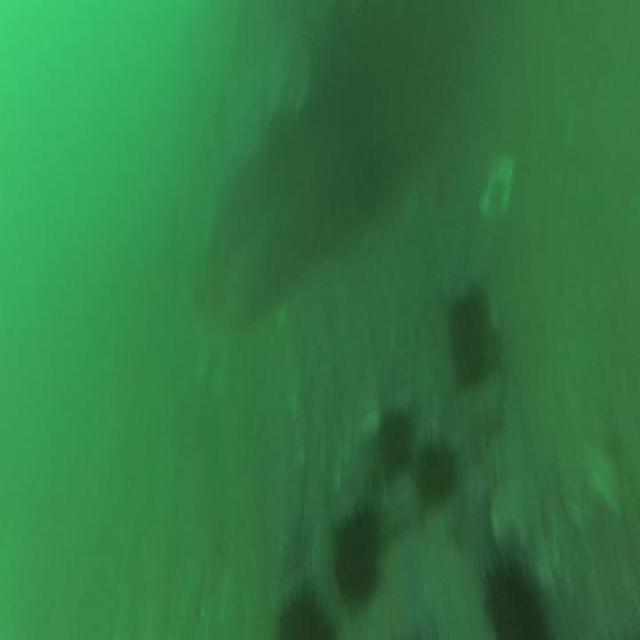echinus: (472, 529, 564, 640), (325, 490, 387, 611), (441, 280, 505, 394), (408, 431, 468, 528), (271, 562, 343, 640), (368, 390, 416, 478)
